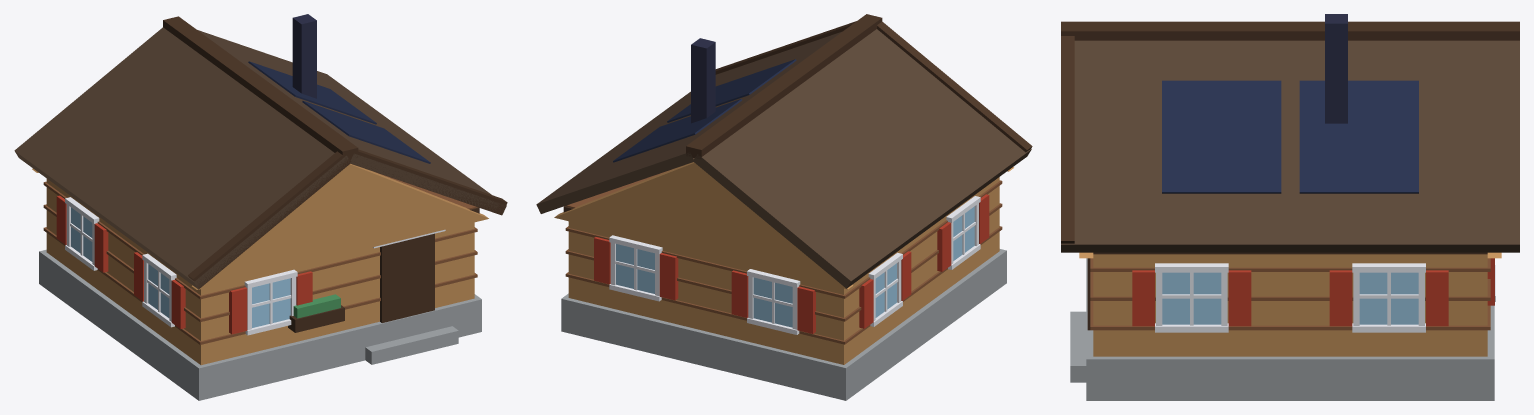
File: house-1x1-1f-chalet-a-solar.glb
The picture shows the model from 3 angles, left to right: view 1: azimuth 30°, elevation 25°; view 2: azimuth 150°, elevation 25°; view 3: azimuth 270°, elevation 25°; orthographic projection. The views are drawn at different scales.
Visible parts, largest first — view 1: house-1x1-1f-chalet-a-solar; view 2: house-1x1-1f-chalet-a-solar; view 3: house-1x1-1f-chalet-a-solar.
Part boxes in pixels (x1,y1,x2,y2): house-1x1-1f-chalet-a-solar: (14, 14, 507, 400); house-1x1-1f-chalet-a-solar: (536, 14, 1032, 400); house-1x1-1f-chalet-a-solar: (1061, 14, 1519, 400).
Size of the model in its own units: 1.01 by 0.8 by 1.
1 material, 1 textured.
